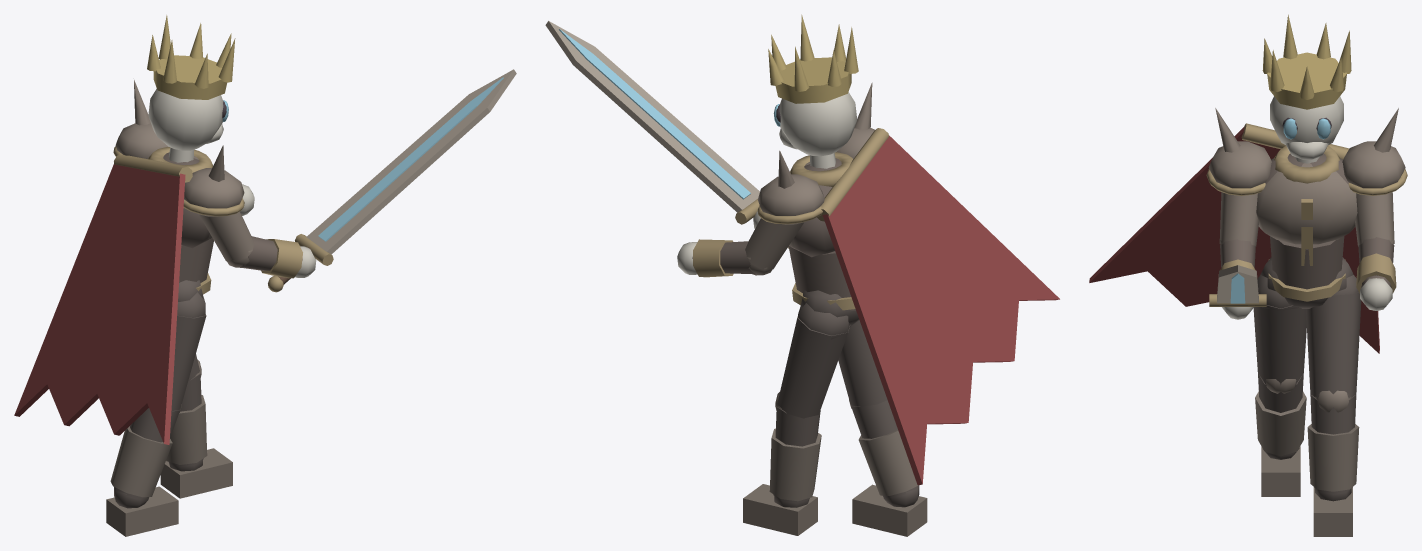
The model's file is enemy_1_fallen_king.glb.
3 views of the same model, side by side, from view 1: azimuth 30°, elevation 25°; view 2: azimuth 150°, elevation 25°; view 3: azimuth 270°, elevation 25° (orthographic). The views are drawn at different scales.
Parts seen in each view (by area): view 1: Cape, LegR, Weapon, Torso, Head, LegL, ArmR; view 2: Cape, LegL, Torso, LegR, Head, Weapon, ArmL; view 3: Torso, Cape, LegL, LegR, Head, ArmL, ArmR, Weapon.
Boxes of the visible parts, x1,y1,x2,y2 form: Cape: [14, 155, 192, 444]; LegR: [106, 292, 206, 536]; Weapon: [268, 69, 516, 292]; Torso: [113, 80, 244, 301]; Head: [147, 15, 235, 150]; LegL: [160, 354, 232, 498]; ArmR: [199, 211, 316, 278]; Cape: [817, 128, 1059, 485]; LegL: [743, 303, 850, 535]; Torso: [757, 82, 874, 325]; LegR: [838, 320, 927, 536]; Head: [768, 14, 858, 156]; Weapon: [545, 21, 788, 248]; ArmL: [677, 218, 803, 277]; Torso: [1206, 108, 1407, 308]; Cape: [1089, 123, 1379, 353]; LegL: [1306, 275, 1361, 536]; LegR: [1253, 275, 1306, 496]; Head: [1262, 14, 1351, 159]; ArmL: [1355, 192, 1396, 310]; ArmR: [1219, 192, 1258, 319]; Weapon: [1209, 265, 1266, 306].
Size of the model in its own units: 2.7 by 2.82 by 1.67.
